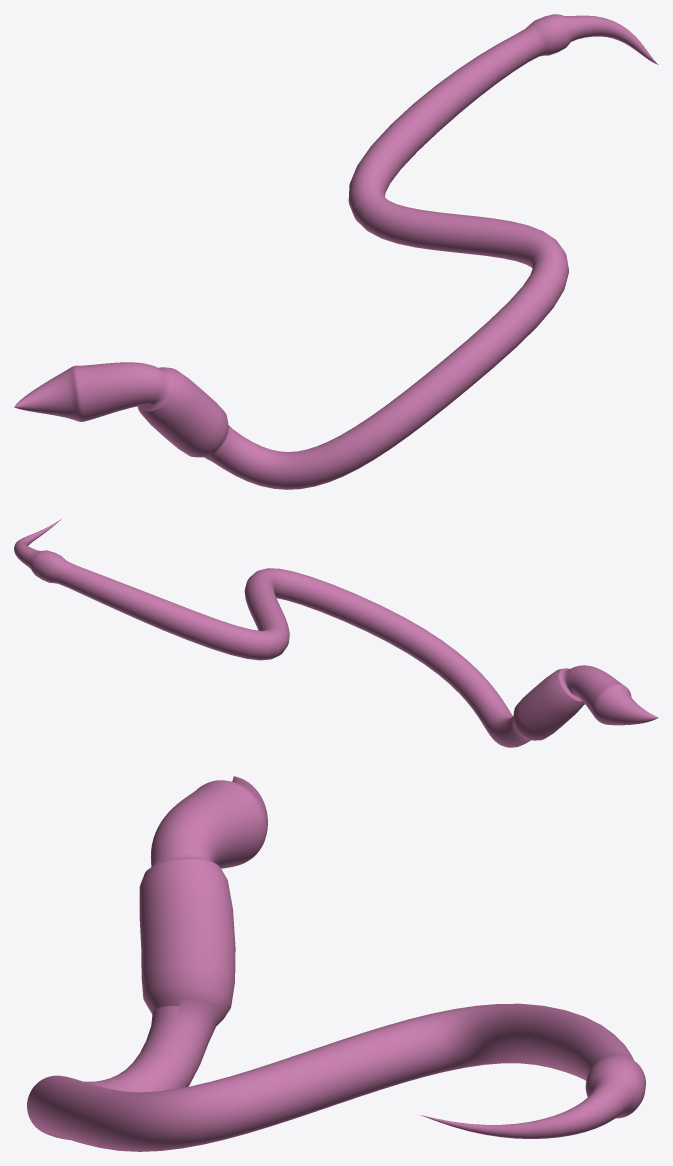
The model's file is Gusano.fbx.
3 renders of one model, top to bottom at view 1: azimuth 30°, elevation 25°; view 2: azimuth 150°, elevation 25°; view 3: azimuth 270°, elevation 25°, orthographic. The views are drawn at different scales.
Parts seen in each view (by area): view 1: BézierCurve; view 2: BézierCurve; view 3: BézierCurve.
Part boxes in pixels (x1,y1,x2,y2): BézierCurve: (14,14,658,489); BézierCurve: (14,519,658,747); BézierCurve: (27,776,645,1151).
Size of the model in its own units: 239 by 80 by 114.
